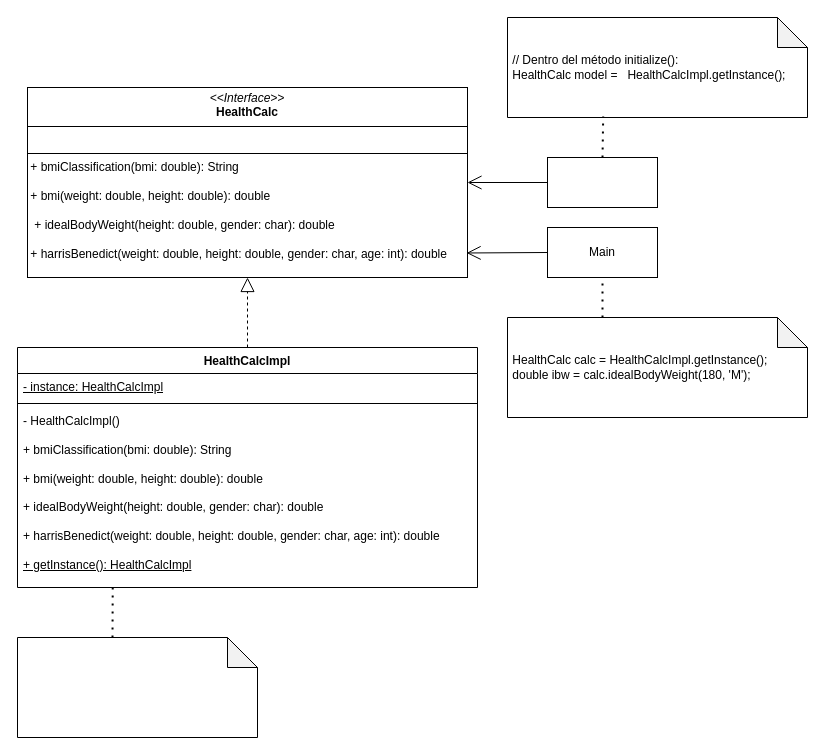
The diagram is 825 pixels wide and 755 high, and some of its shapes have lost their labels. Here are the shapes that lost their labels. From the top down, the centre of each, then its label:
[602,182]: MainGUI
[137,687]: if (instance == null ) { instance = new HealthCalcImpl(); } return instance;
